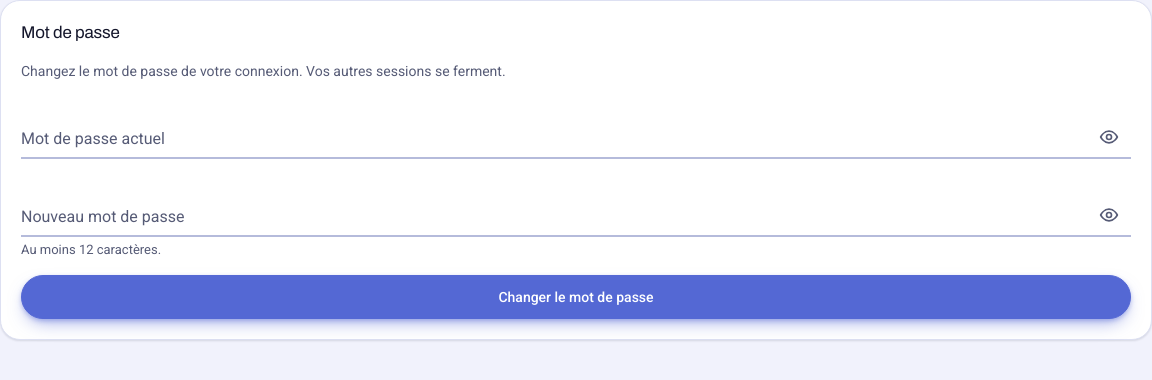
Test: ChangePasswordCard › tells a wrong current password under its field (fr)
The image size is (1152, 380).
Type "wrong" into the password field with test id "change-password-current" at [576, 137], box left=21, top=115, right=1131, bottom=159
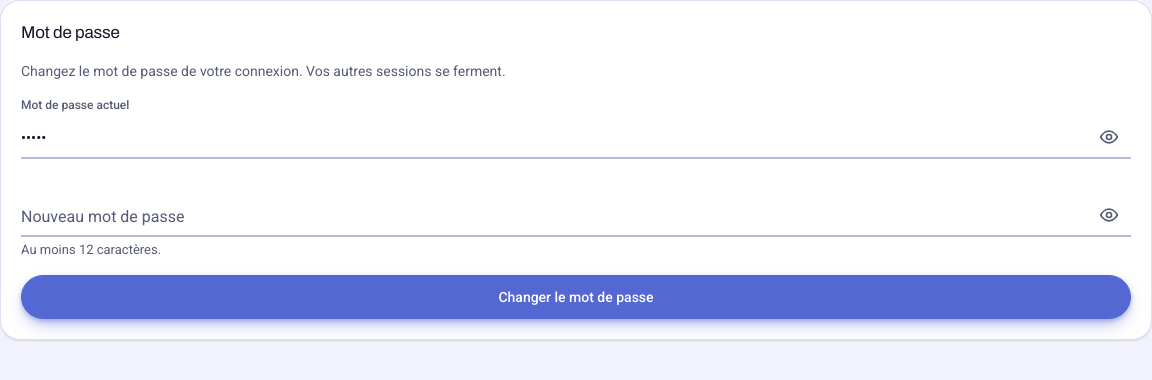
Type "a brand new password" into the password field with test id "change-password-new" at [576, 215], box left=21, top=193, right=1131, bottom=237
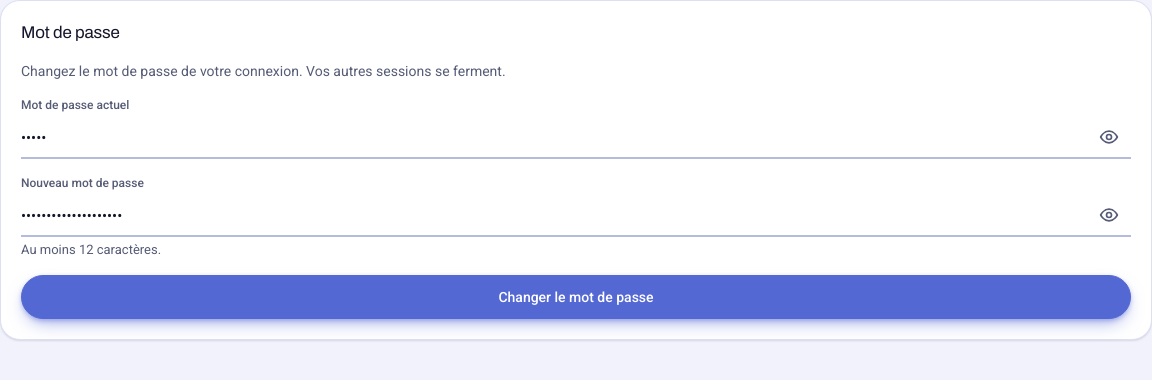
Click the button with test id "change-password-submit" at [576, 297], box left=21, top=275, right=1131, bottom=319
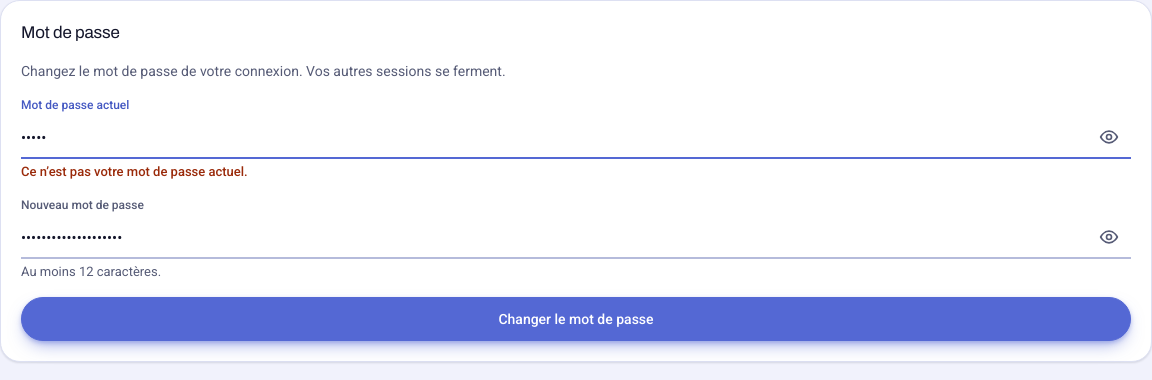
Result: the text with test id "change-password-current-error" shows "Ce n’est pas votre mot de passe actuel" at left=21, top=164, right=248, bottom=179
